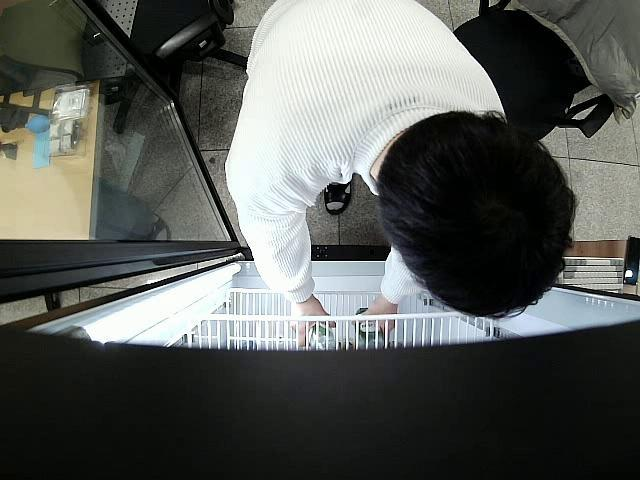18_trevi: (352, 308, 388, 350), (310, 326, 339, 350)
